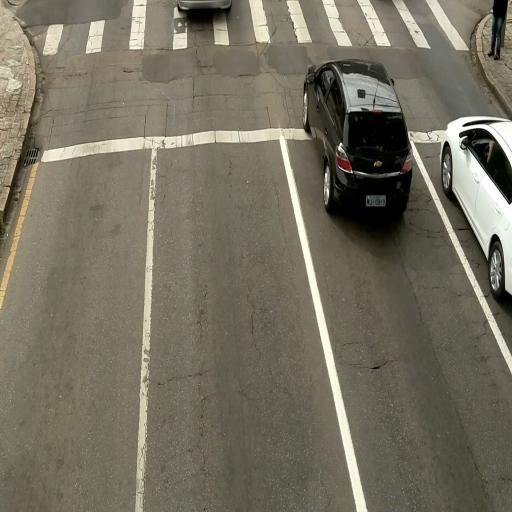car: (303, 56, 411, 220), (439, 116, 511, 306), (176, 0, 232, 12)
